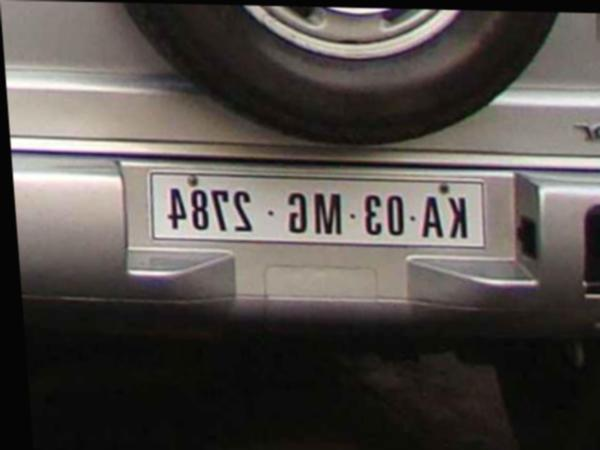License_Plate: (152, 174, 491, 246)
